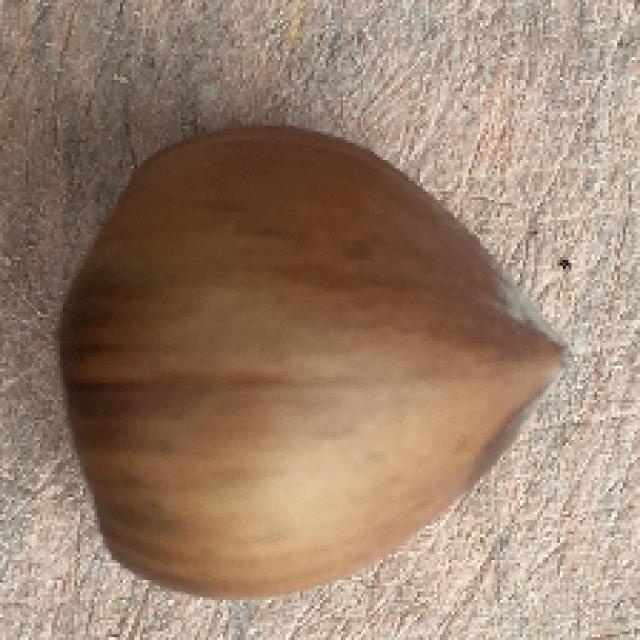qualityHazelnut: (55, 127, 577, 595)
